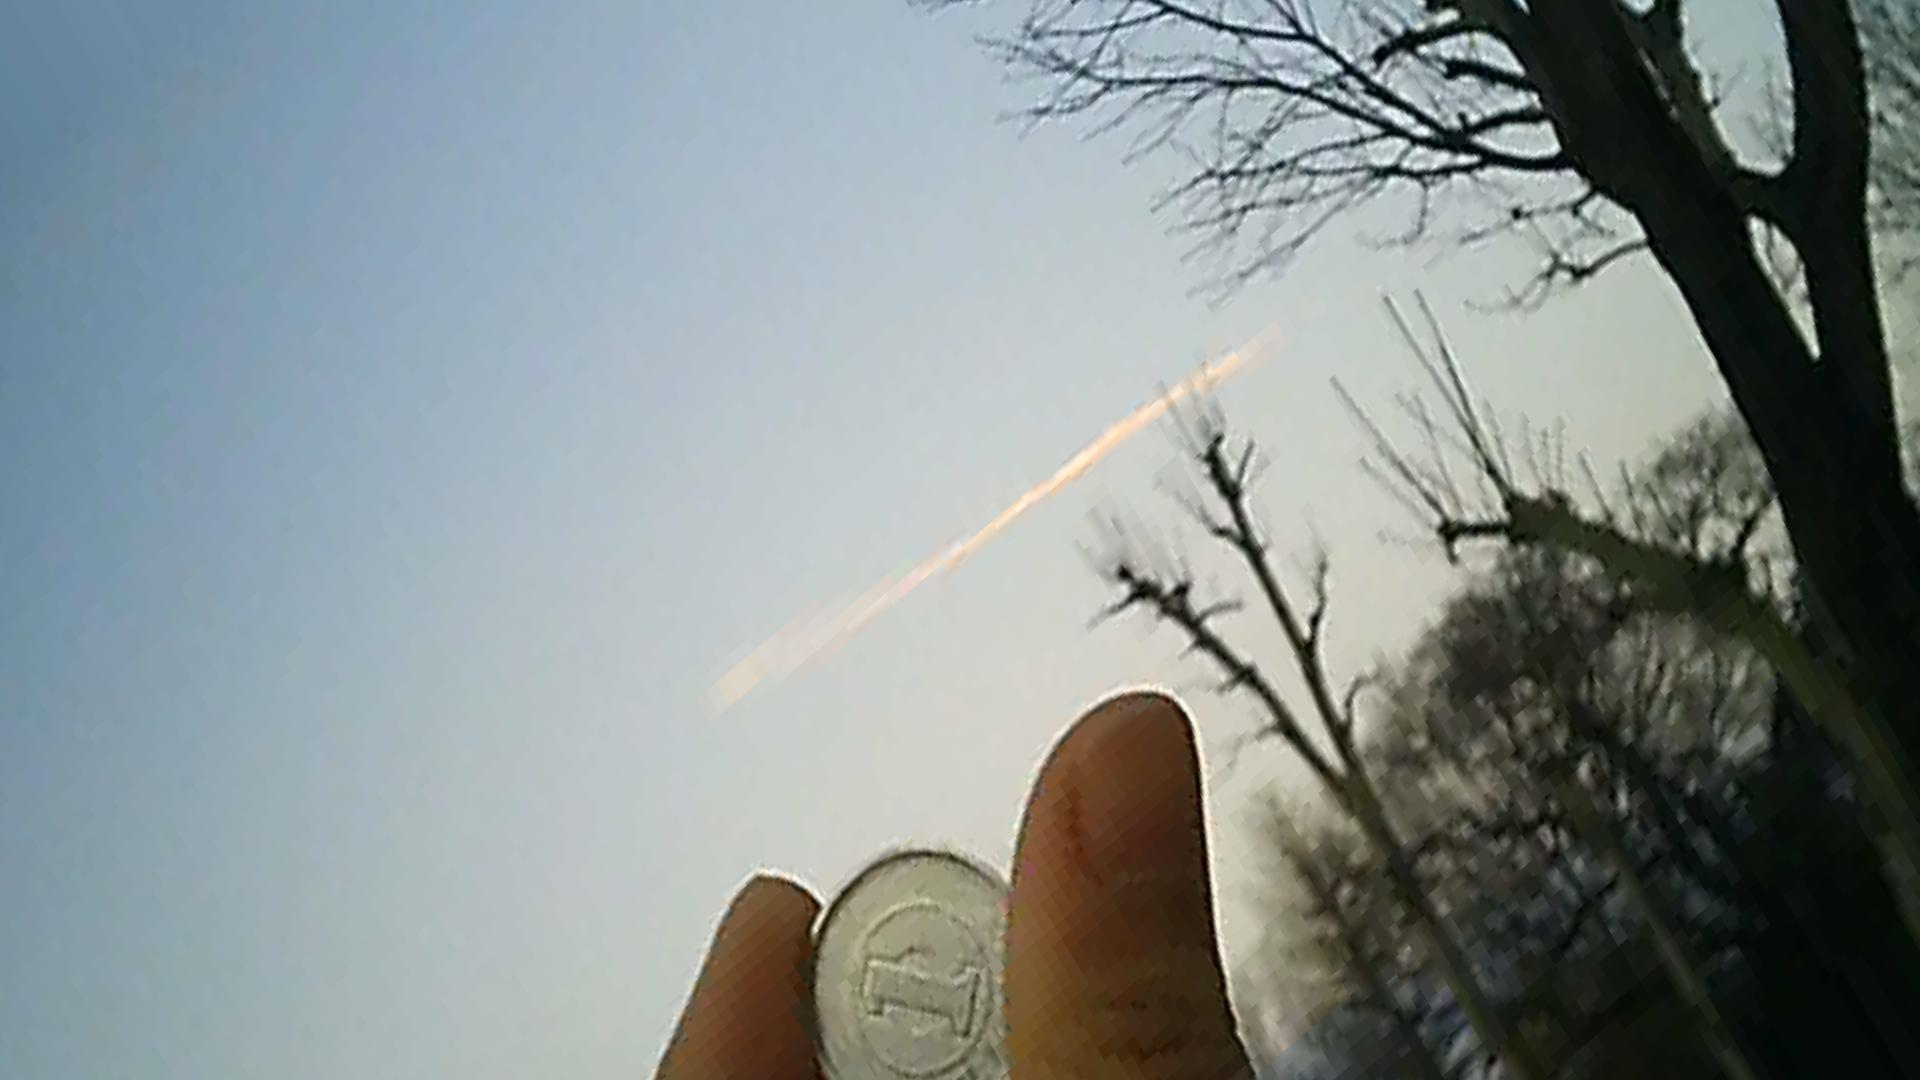1 Yen: (783, 845, 1042, 1079)
